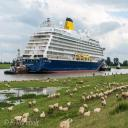cruises: (21, 18, 107, 76)
